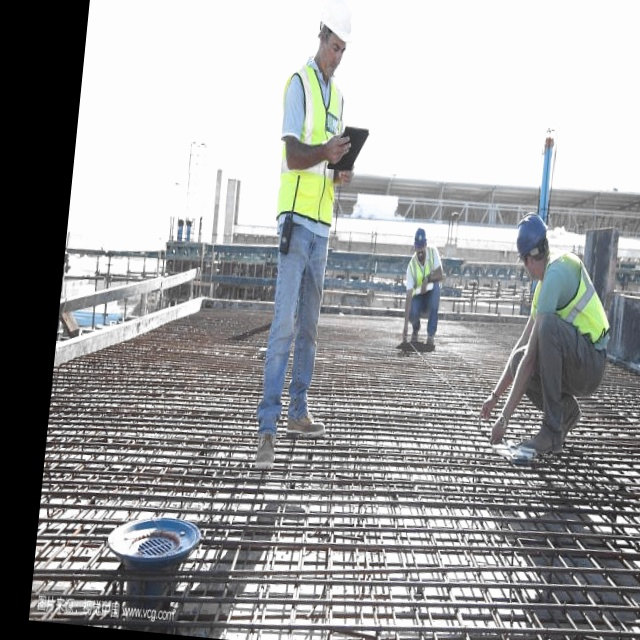Con_Casco: (315, 0, 359, 66), (412, 226, 429, 265)
Con_Chaleco: (272, 64, 350, 232), (530, 248, 620, 351)
